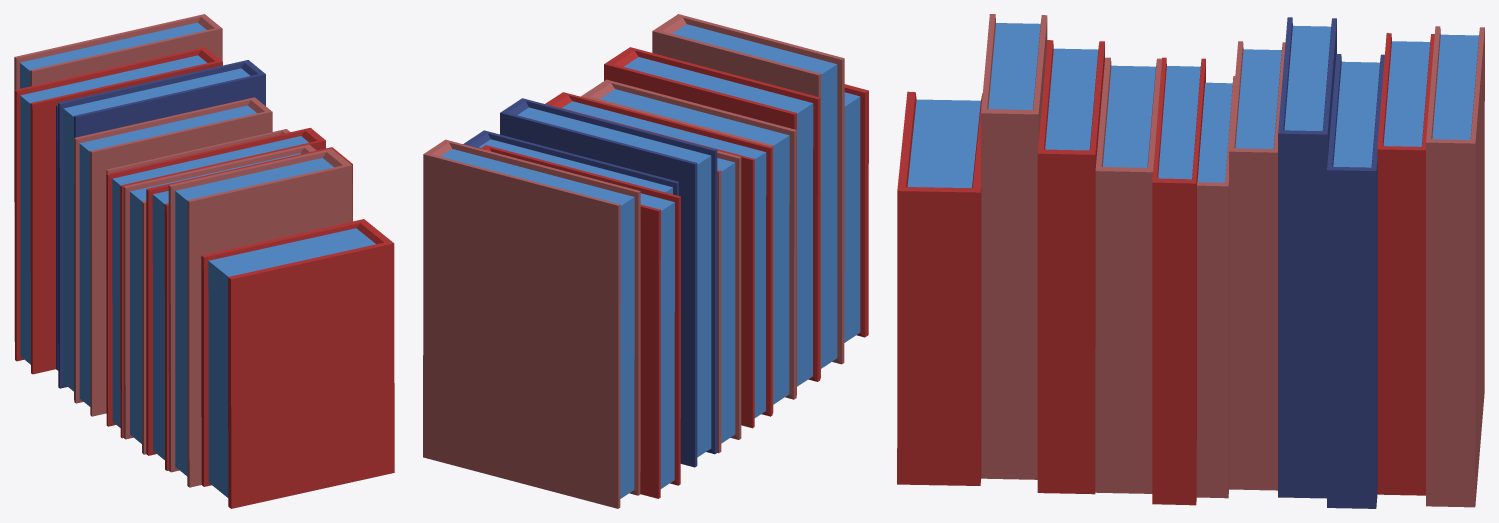
The model's file is Bedroom3_Books1.fbx.
3 renders of one model, left to right at view 1: azimuth 30°, elevation 25°; view 2: azimuth 150°, elevation 25°; view 3: azimuth 270°, elevation 25°, orthographic. The views are drawn at different scales.
Parts seen in each view (by area): view 1: Bedroom3_Books1; view 2: Bedroom3_Books1; view 3: Bedroom3_Books1.
Part boxes in pixels (x1,y1,x2,y2): Bedroom3_Books1: [14, 14, 394, 508]; Bedroom3_Books1: [423, 14, 868, 508]; Bedroom3_Books1: [897, 14, 1484, 508].
Size of the model in its own units: 33.47 by 43.6 by 63.53.
